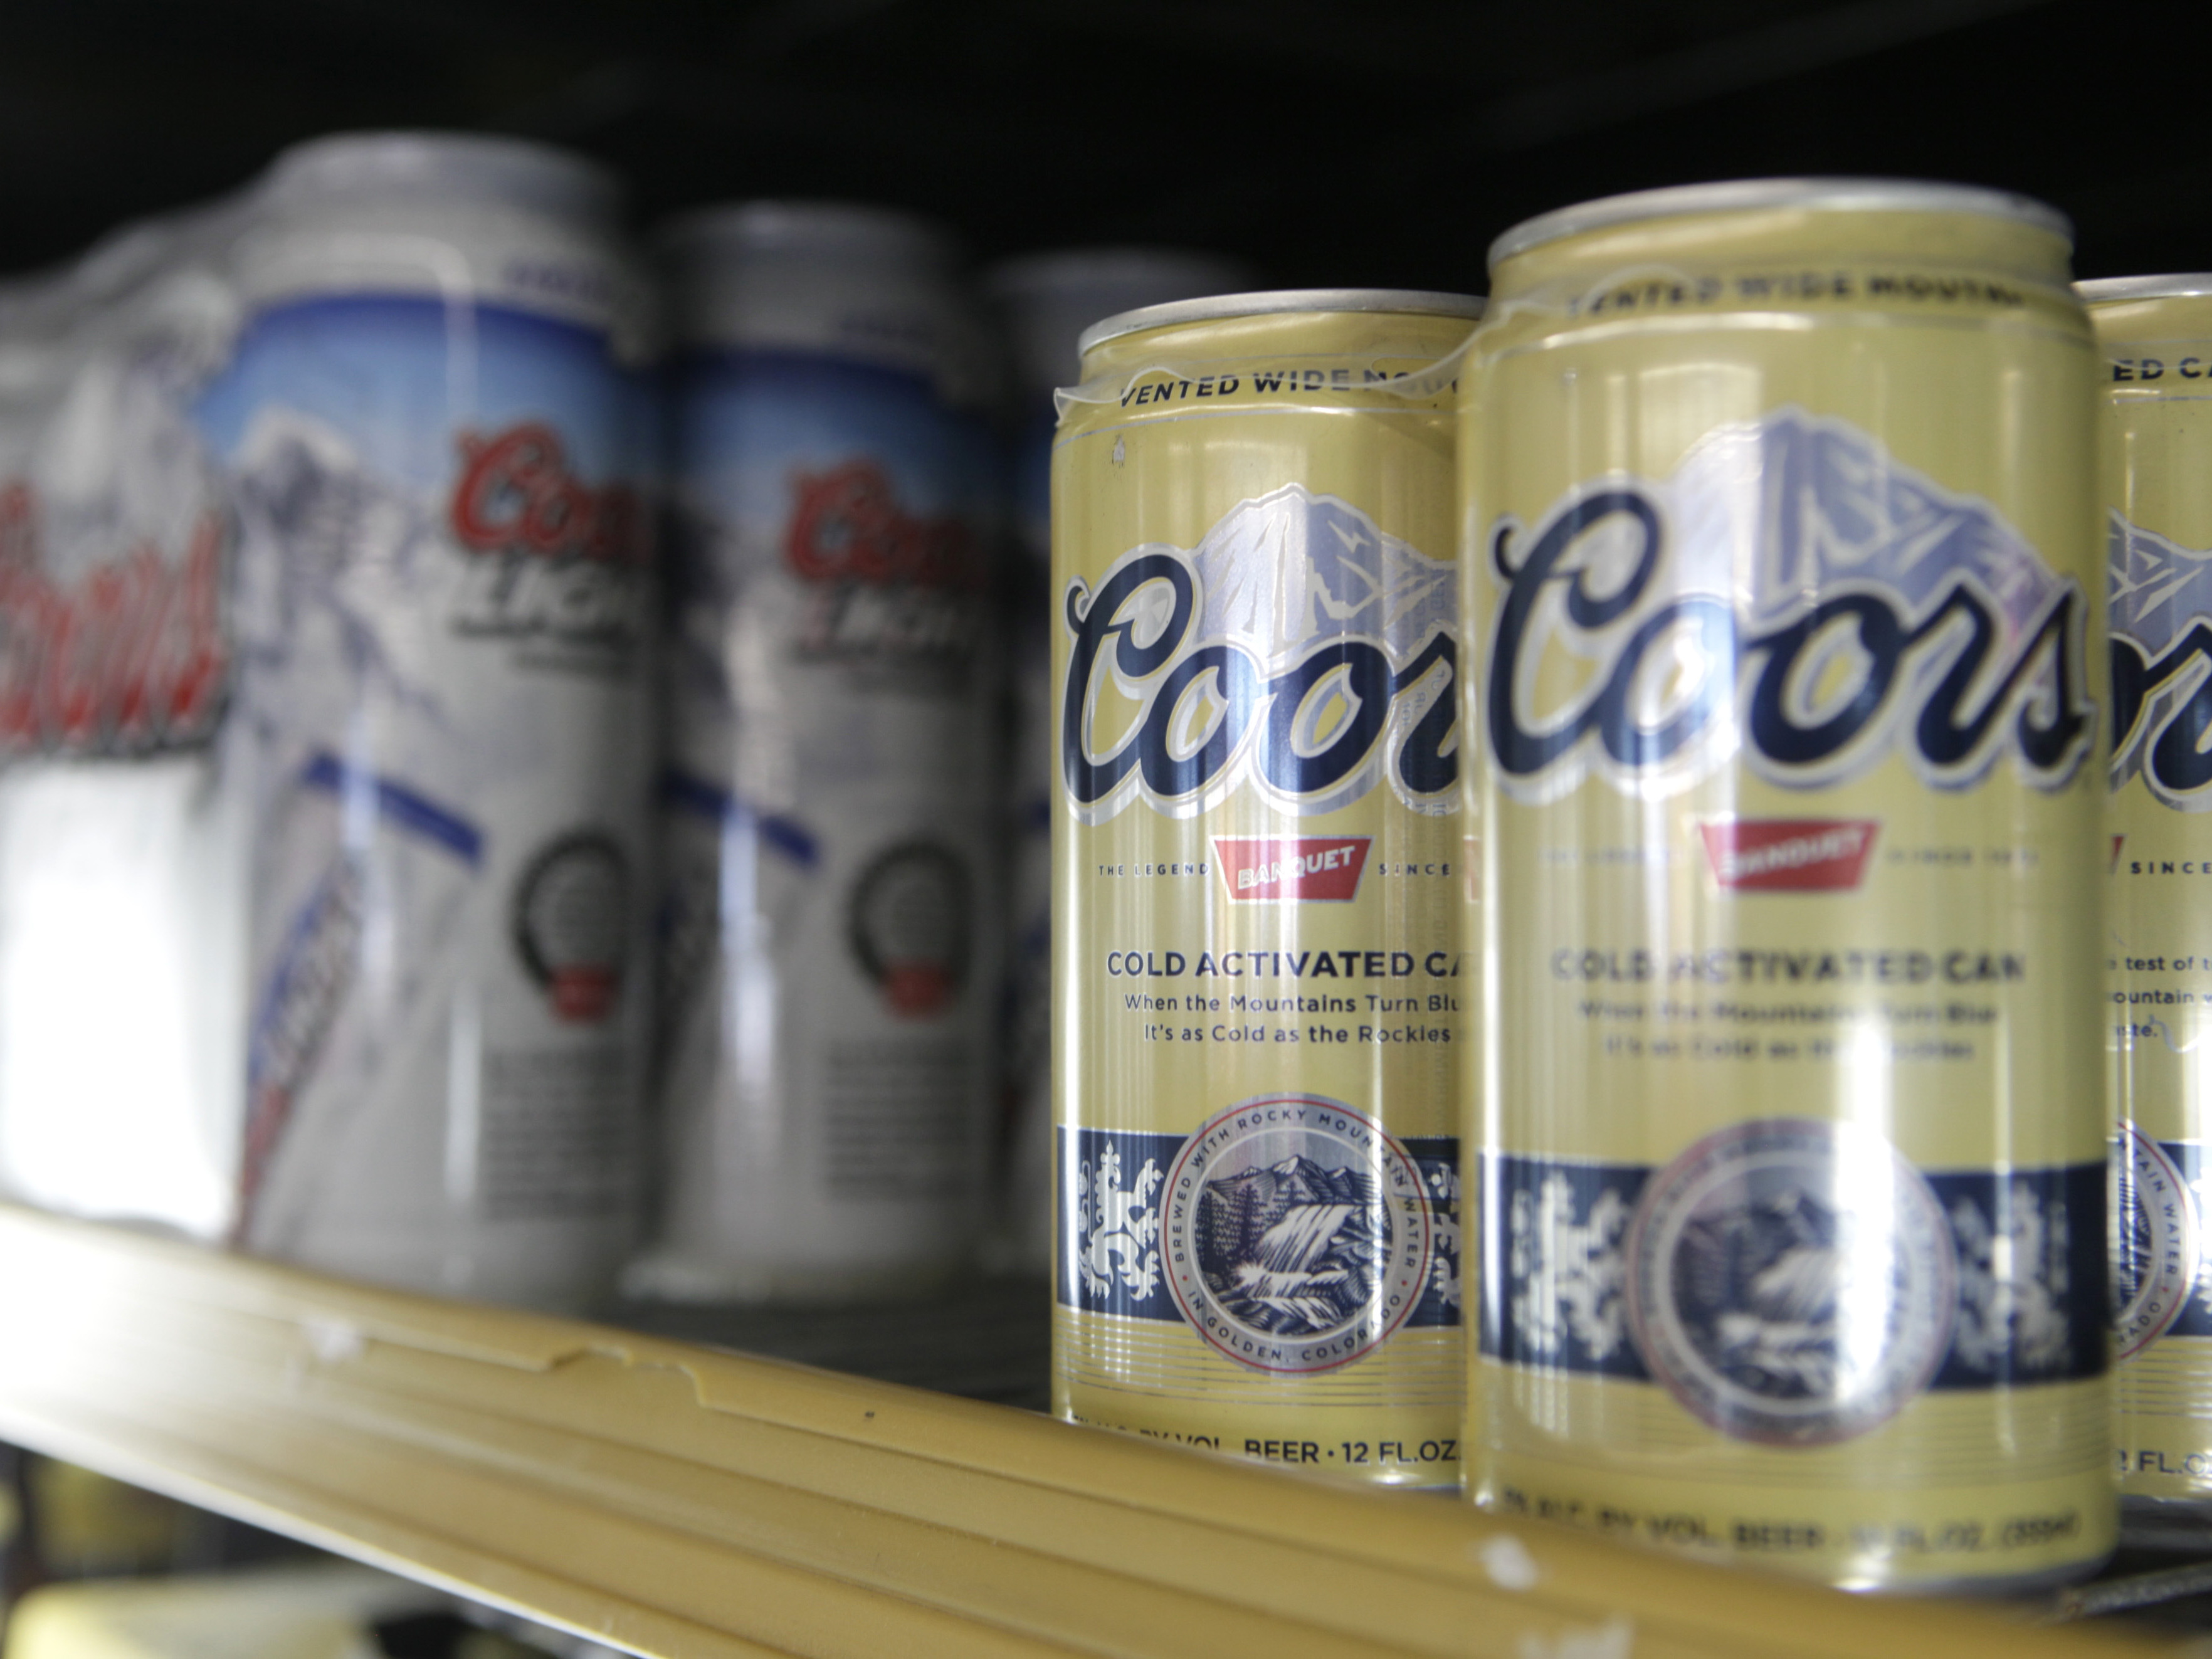beer can: (1453, 162, 2116, 1595), (1045, 293, 1500, 1493), (246, 134, 650, 1324), (650, 193, 982, 1305), (2076, 265, 2212, 1535)
